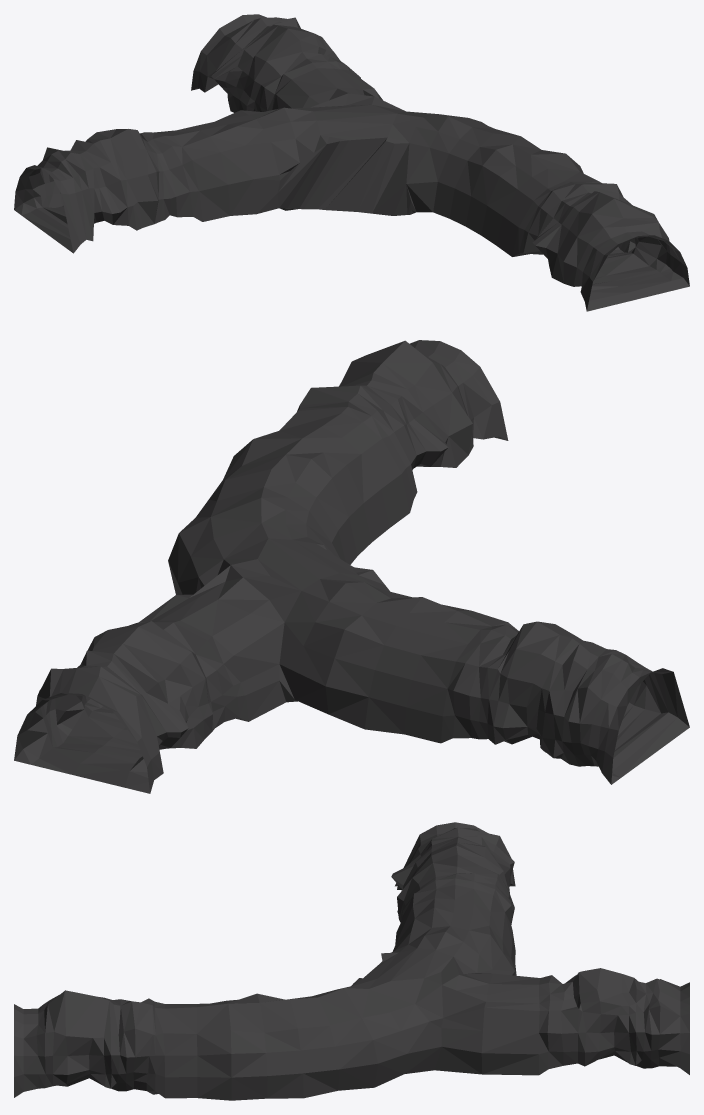
The model's file is Cave_13_LOD_1.fbx.
3 renders of one model, top to bottom at view 1: azimuth 30°, elevation 25°; view 2: azimuth 150°, elevation 25°; view 3: azimuth 270°, elevation 25°, orthographic. The views are drawn at different scales.
Parts seen in each view (by area): view 1: polySurface39; view 2: polySurface39; view 3: polySurface39.
Part boxes in pixels (left/top/right/bottom): polySurface39: left=14, top=14, right=689, bottom=311; polySurface39: left=14, top=340, right=689, bottom=793; polySurface39: left=14, top=822, right=689, bottom=1100.
Size of the model in its own units: 34.42 by 7.07 by 46.21.
